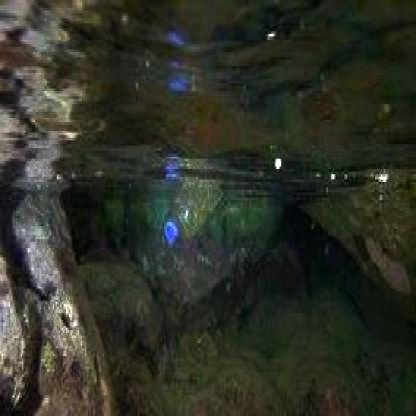pbottle: (146, 162, 230, 258)
